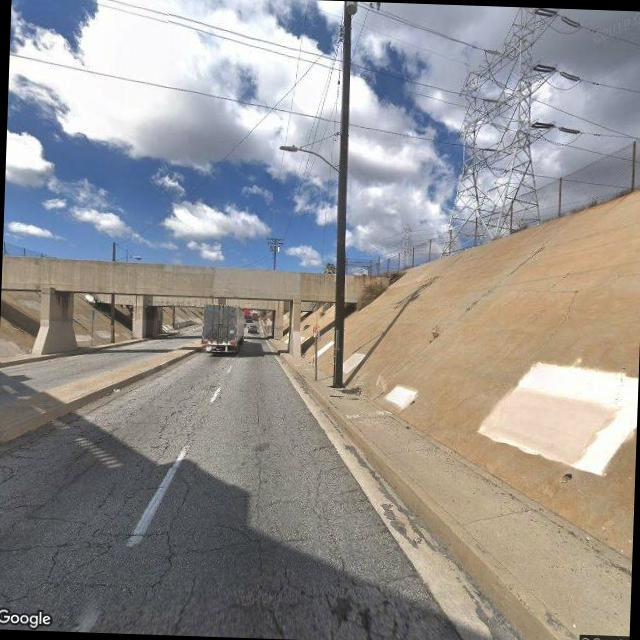crack: (0, 387, 406, 640)
